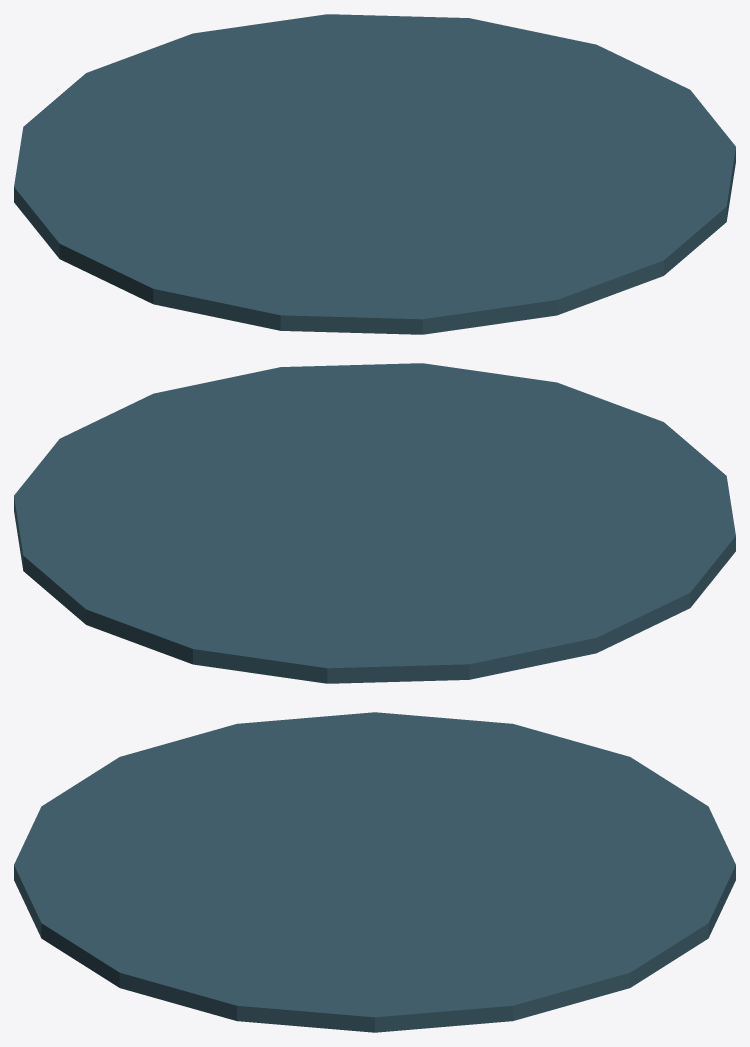
Rendered from Well_Water.fbx.
3 views of the same model, one above another, from view 1: azimuth 30°, elevation 25°; view 2: azimuth 150°, elevation 25°; view 3: azimuth 270°, elevation 25° (orthographic).
Parts seen in each view (by area): view 1: Well_Water; view 2: Well_Water; view 3: Well_Water.
Boxes of the visible parts, box(x1,y1,x2,y2) form: Well_Water: box(14, 14, 735, 334); Well_Water: box(14, 363, 735, 683); Well_Water: box(14, 712, 735, 1032).
Bounding box in the file's own units: 1.7 × 1.7 × 0.04.
